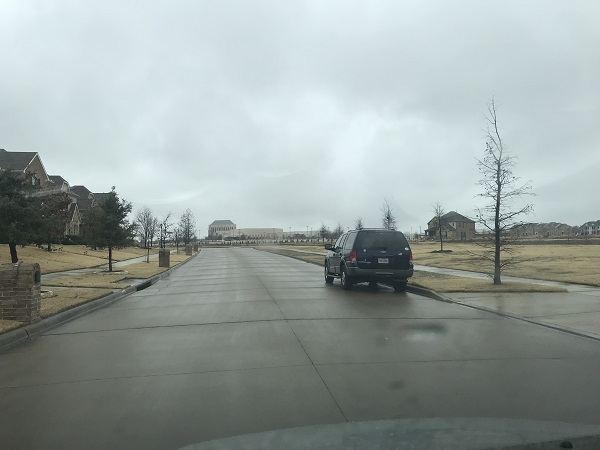car: (323, 229, 411, 295)
